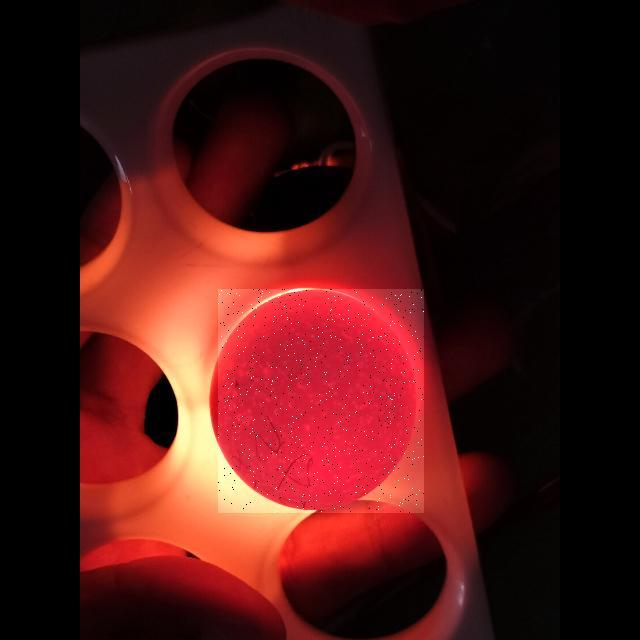Infertile: (218, 289, 424, 513)
